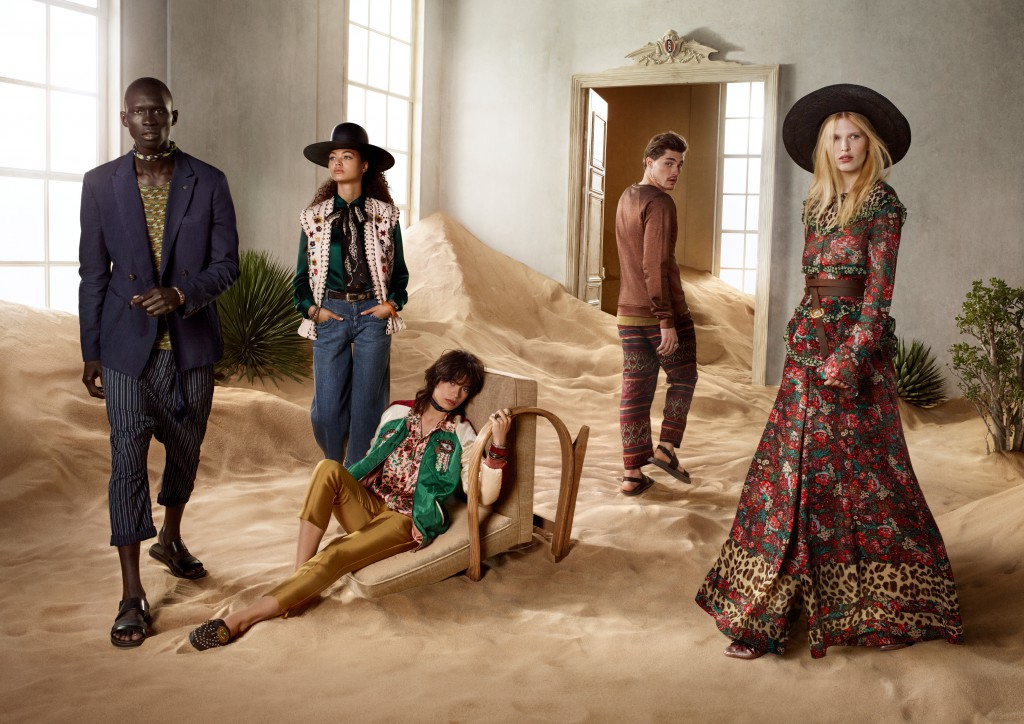Person: (701, 82, 963, 656), (203, 348, 511, 651), (77, 76, 240, 621), (294, 122, 409, 397), (615, 130, 700, 496)
